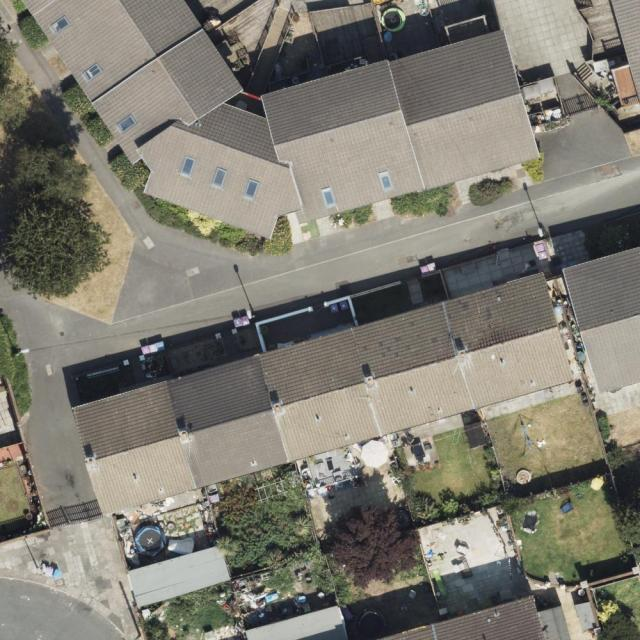roof: (21, 0, 544, 242), (74, 270, 574, 520), (561, 243, 640, 392), (371, 593, 545, 640), (609, 0, 640, 101)
skylight: (81, 61, 104, 84), (241, 177, 261, 201), (209, 166, 228, 191), (321, 186, 338, 211), (116, 114, 137, 134), (178, 157, 196, 179), (52, 15, 69, 35), (379, 171, 394, 193)
